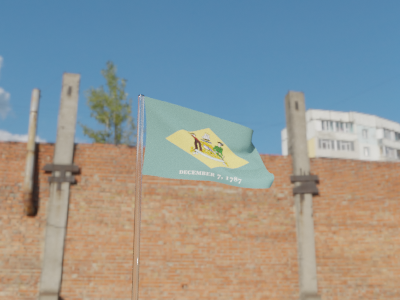Delaware flag: (142, 92, 275, 191)
